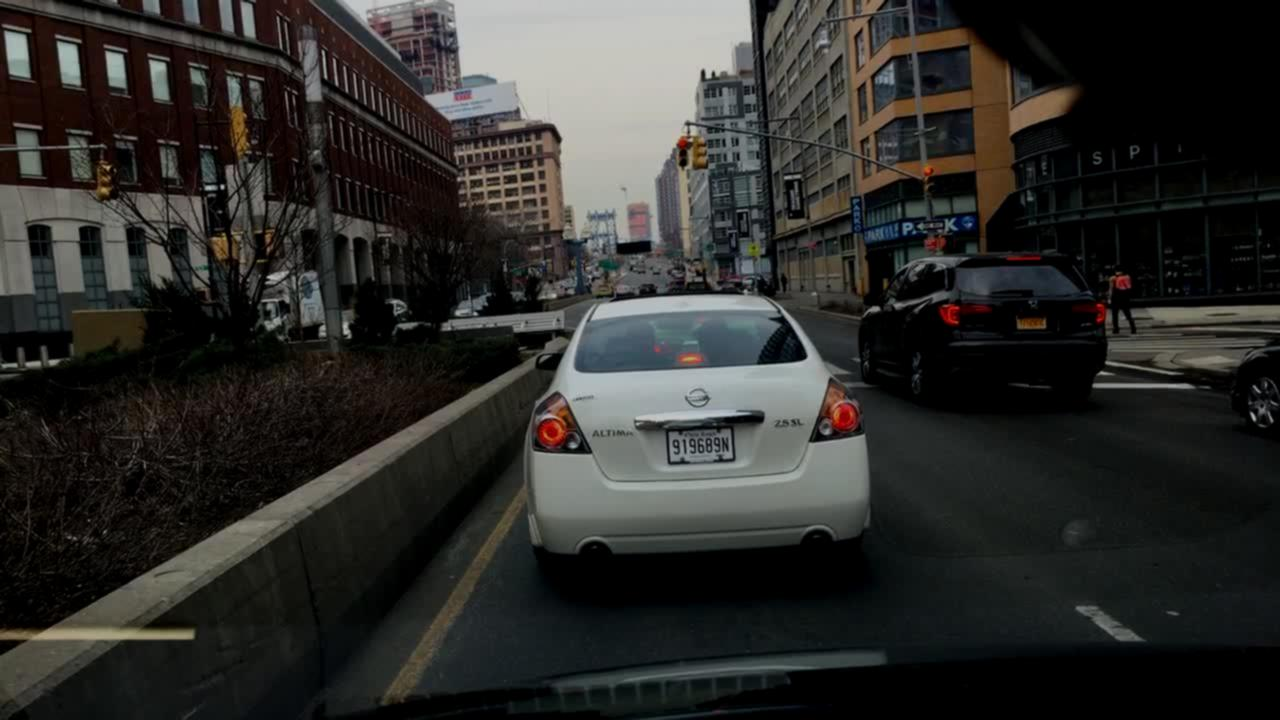Honda: (1024, 294, 1047, 317)
Nissan: (679, 382, 716, 413)
